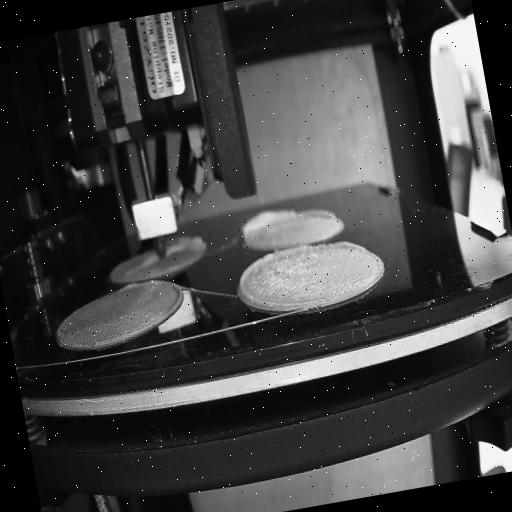over_extrusion: (234, 244, 320, 318), (236, 206, 300, 242), (166, 232, 210, 257), (300, 202, 338, 226), (330, 234, 368, 258), (131, 251, 161, 272), (118, 281, 138, 294)
